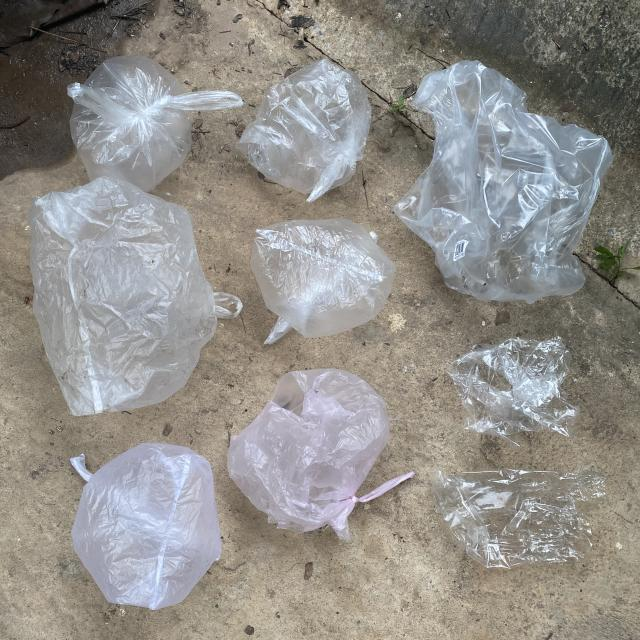Single-layer Plastic: (394, 61, 612, 302), (30, 178, 242, 416), (228, 369, 414, 541), (71, 442, 221, 610), (68, 56, 242, 191), (238, 59, 371, 202), (250, 218, 395, 344), (431, 469, 605, 569), (446, 336, 579, 448)
